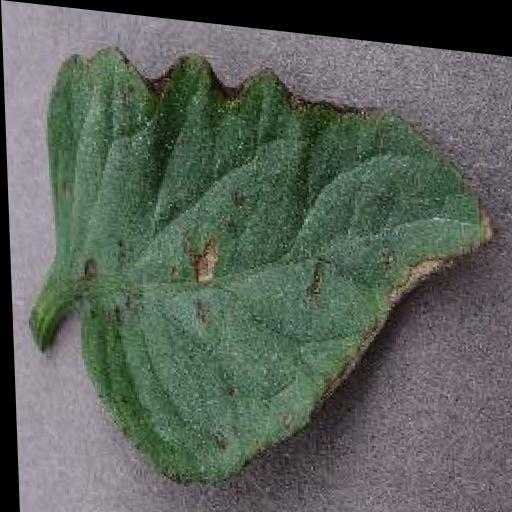Bacterial Spot: (34, 29, 507, 512)
